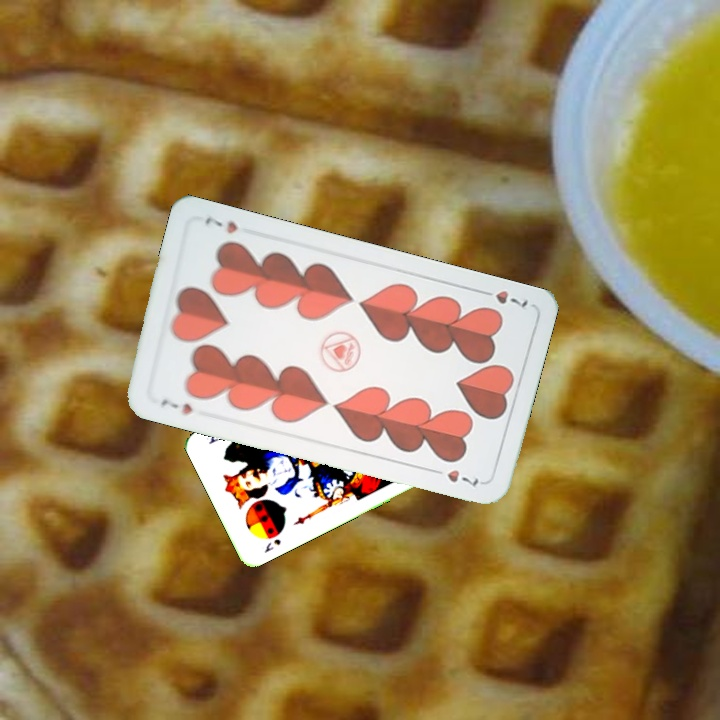H7: (474, 285, 531, 310), (157, 394, 195, 418)
SK: (260, 535, 284, 555)
